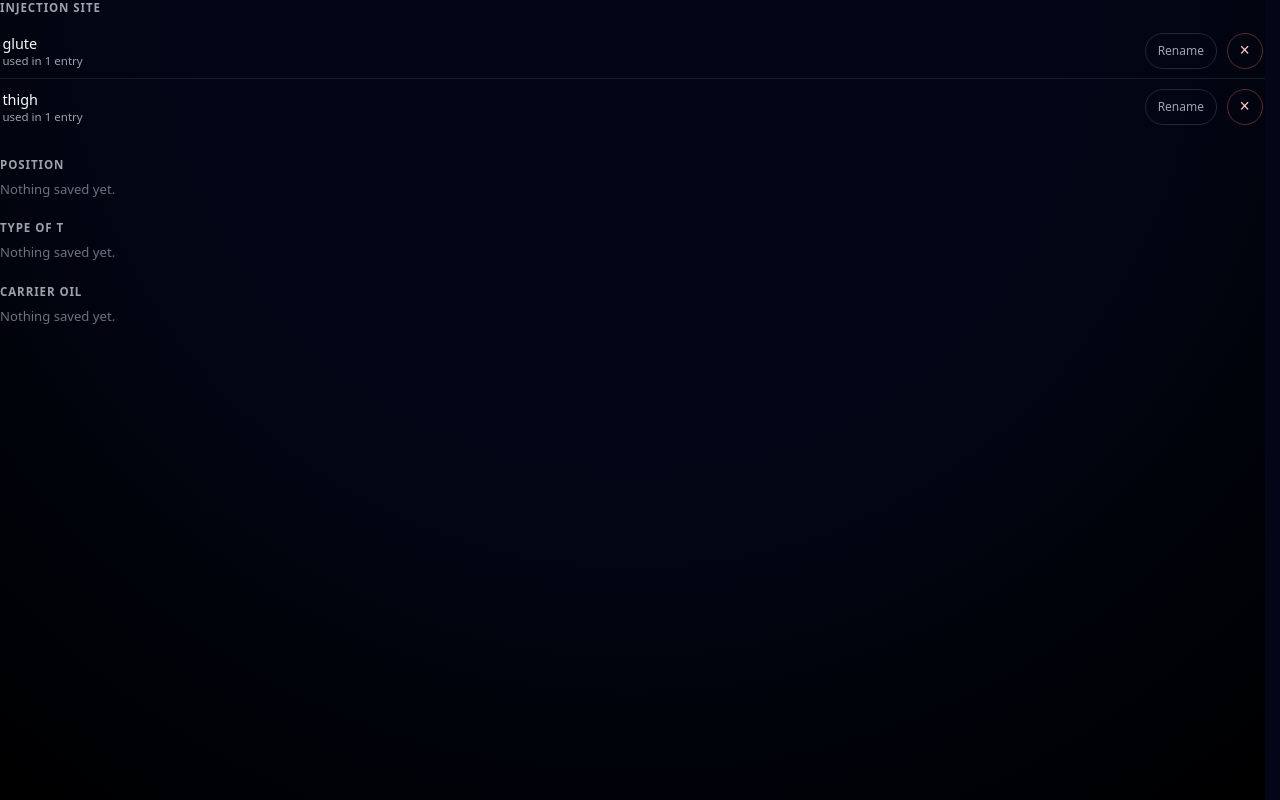
Test: ManageValues › moves focus to the panel when a confirmed rename removes the opener's row
Click the button "Rename" in the row of "glute" at [1181, 51], box [1145,33,1217,69]
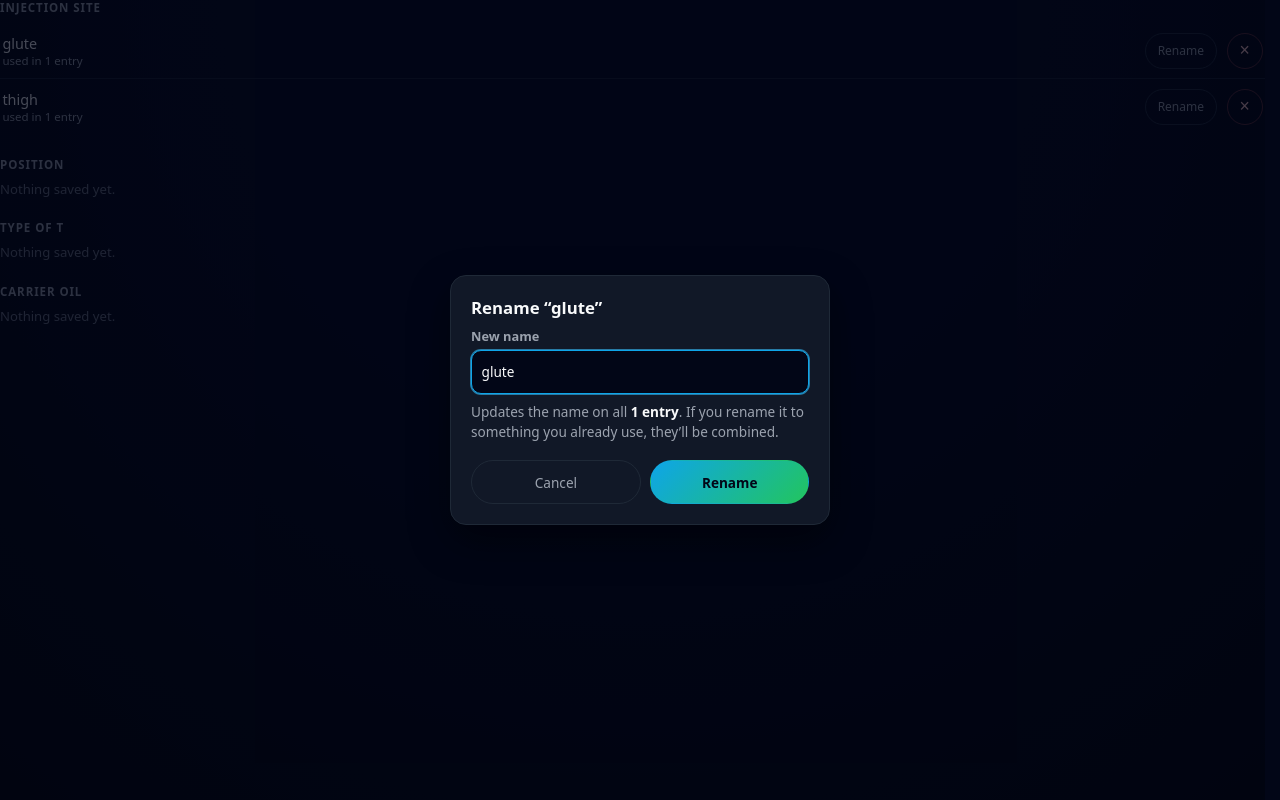
Replace the text in the field labelled "New name" with "quad" at [640, 372], box [471,350,809,394]
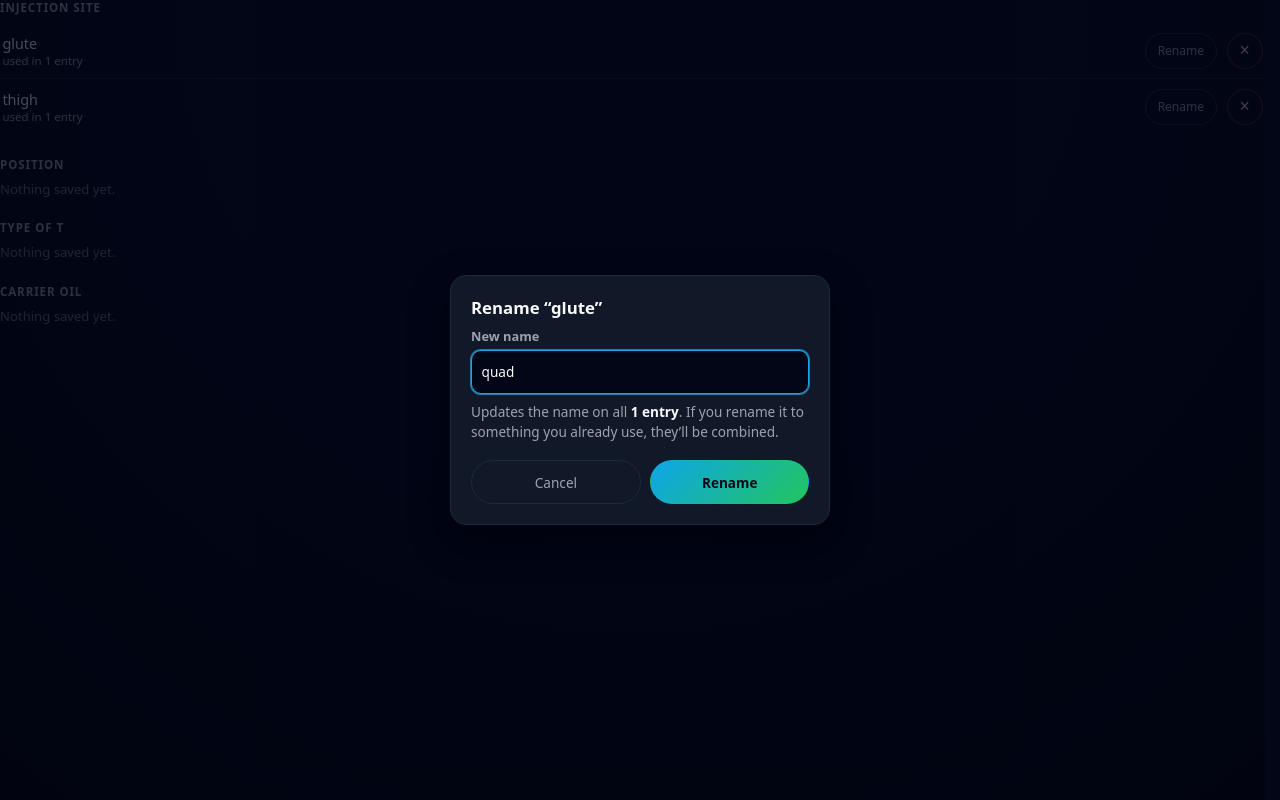
Click the button "Rename" at [730, 482], box [650,460,809,504]
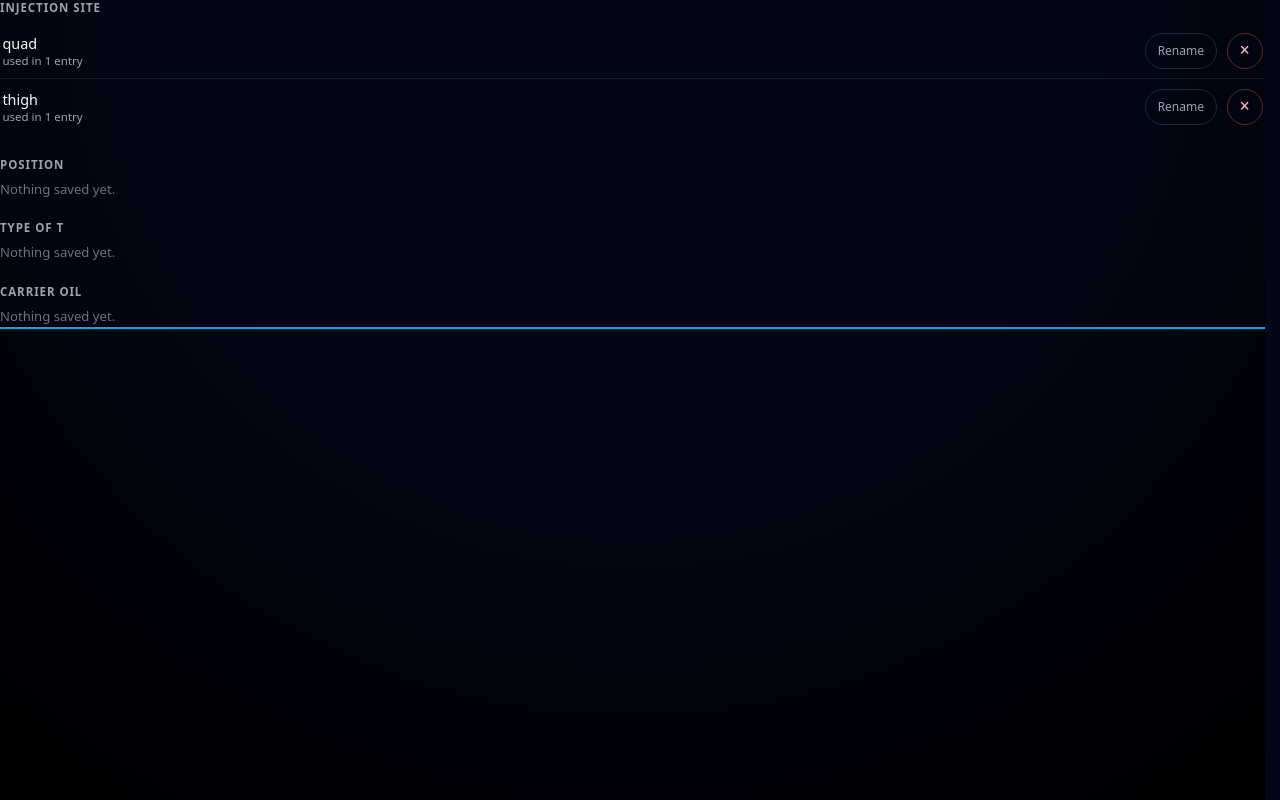
Expected: the dialog is gone
Expected: the text "glute" is gone
